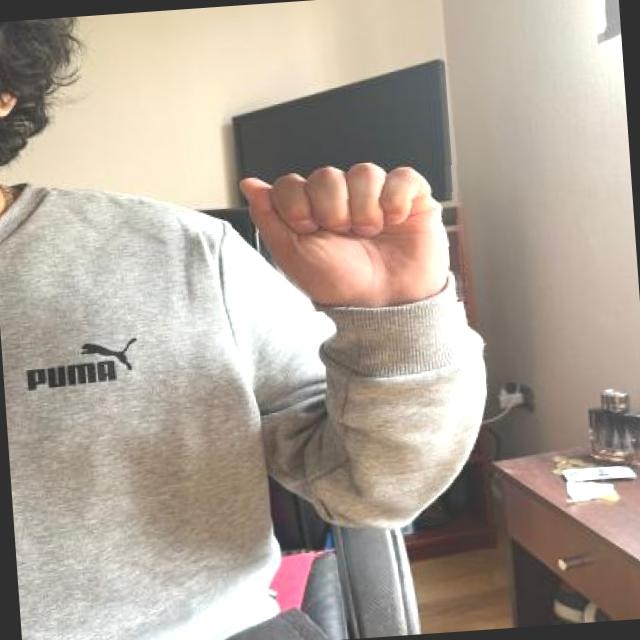A: (227, 150, 469, 317)
